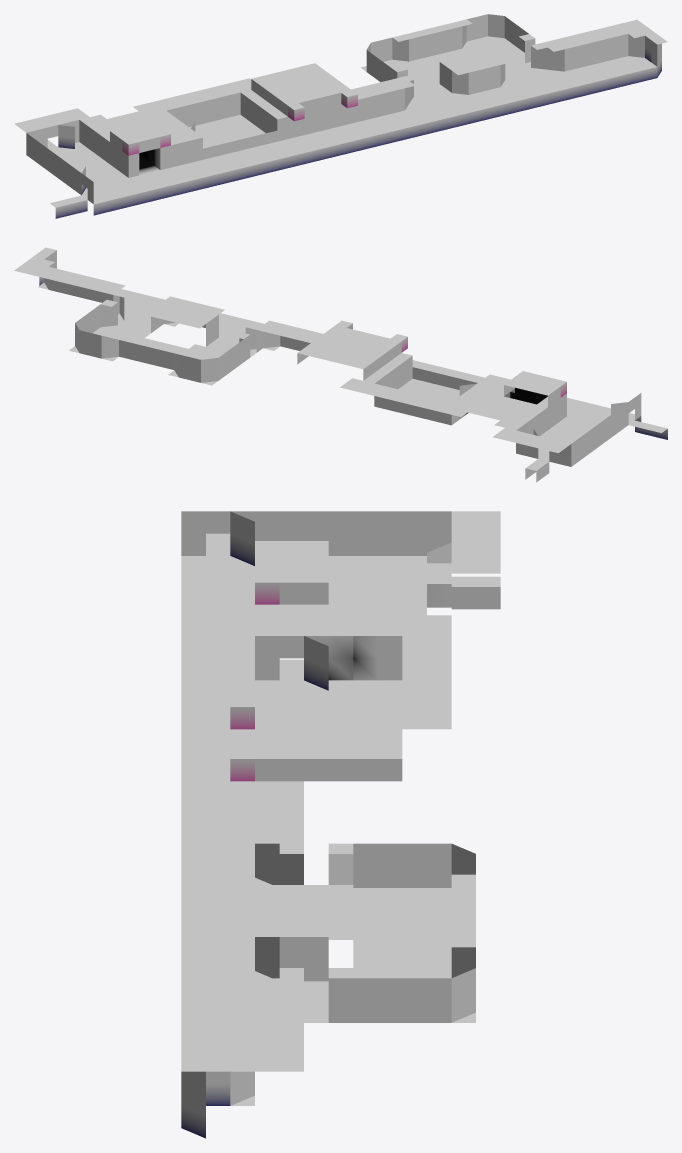
Rendered from showcase_room.obj.
3 views of the same model, one above another, from view 1: azimuth 30°, elevation 25°; view 2: azimuth 150°, elevation 25°; view 3: azimuth 270°, elevation 25° (orthographic). The views are drawn at different scales.
Parts seen in each view (by area): view 1: Cube; view 2: Cube; view 3: Cube.
Part boxes in pixels (x1,y1,x2,y2): Cube: [14, 14, 667, 218]; Cube: [14, 247, 667, 482]; Cube: [181, 511, 500, 1138].
Bounding box in the file's own units: 57 × 4 × 13.
